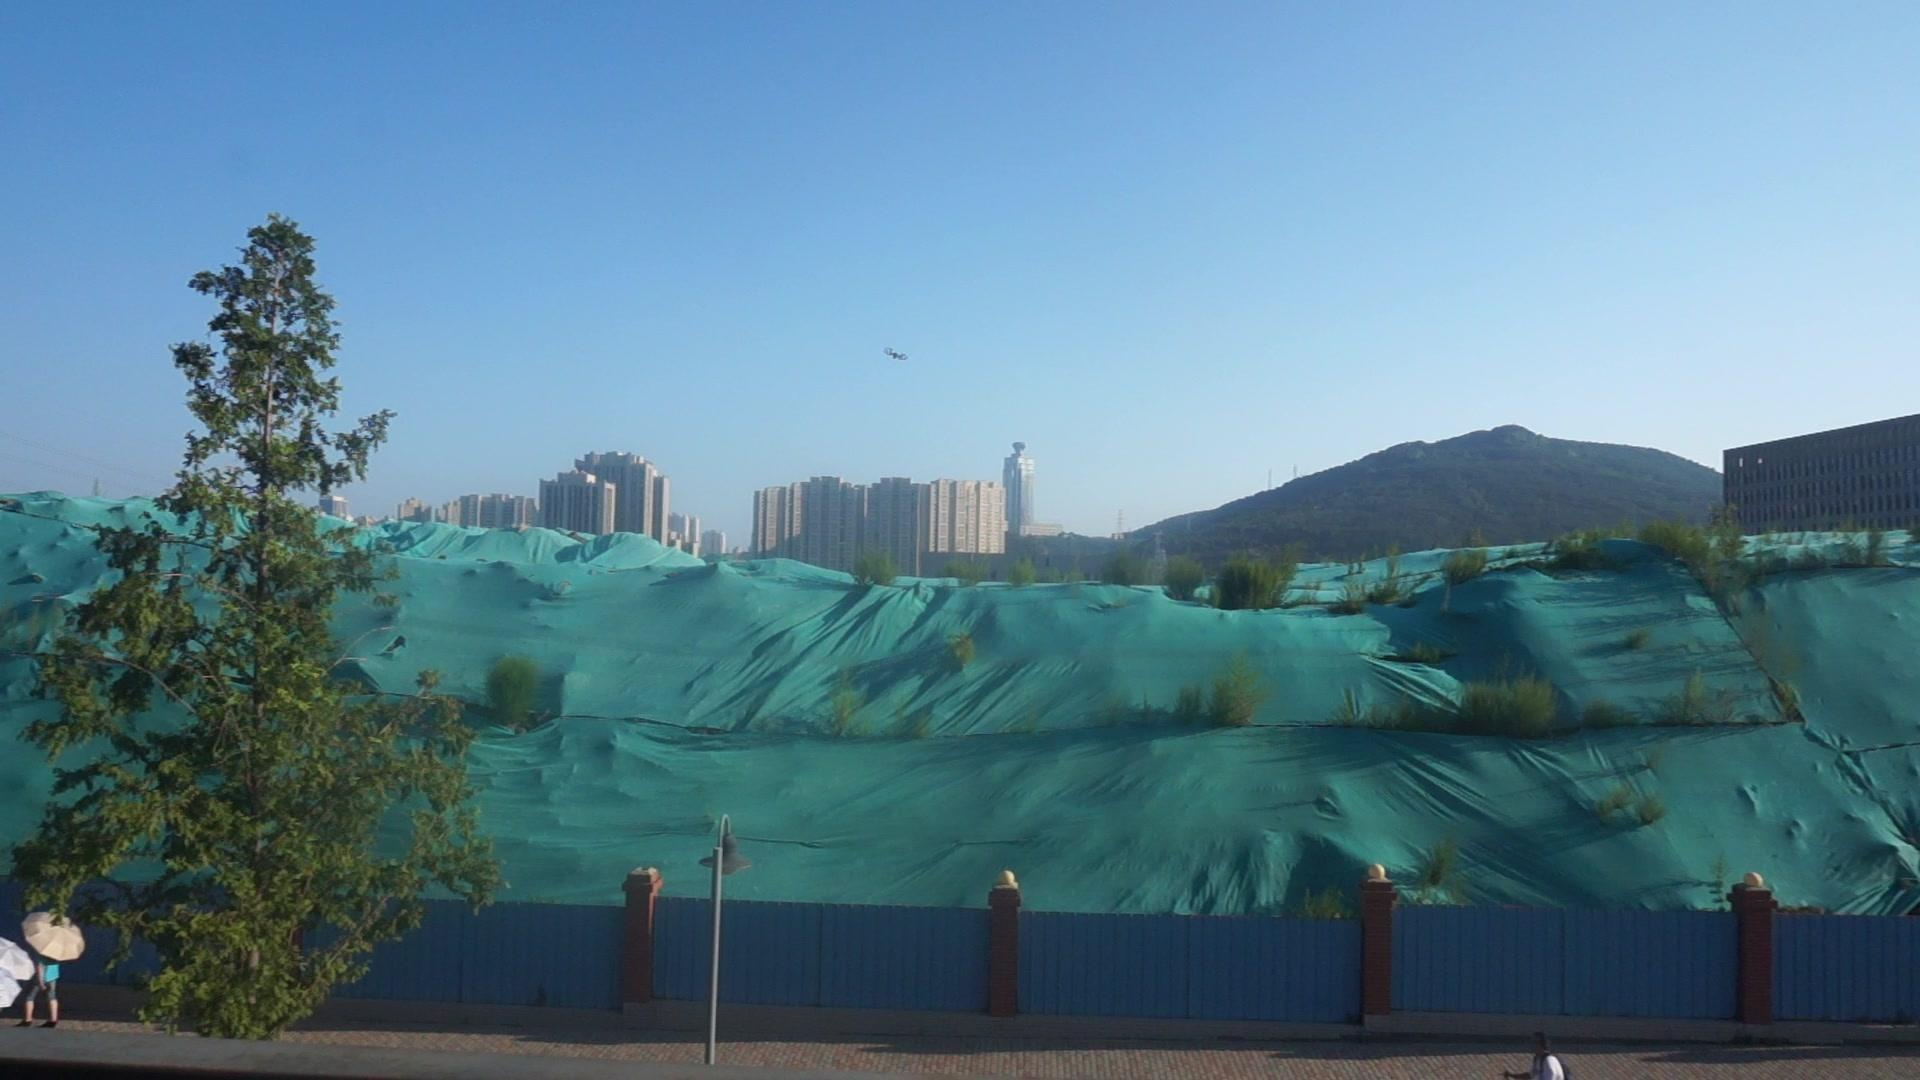UAV: (882, 347, 909, 363)
